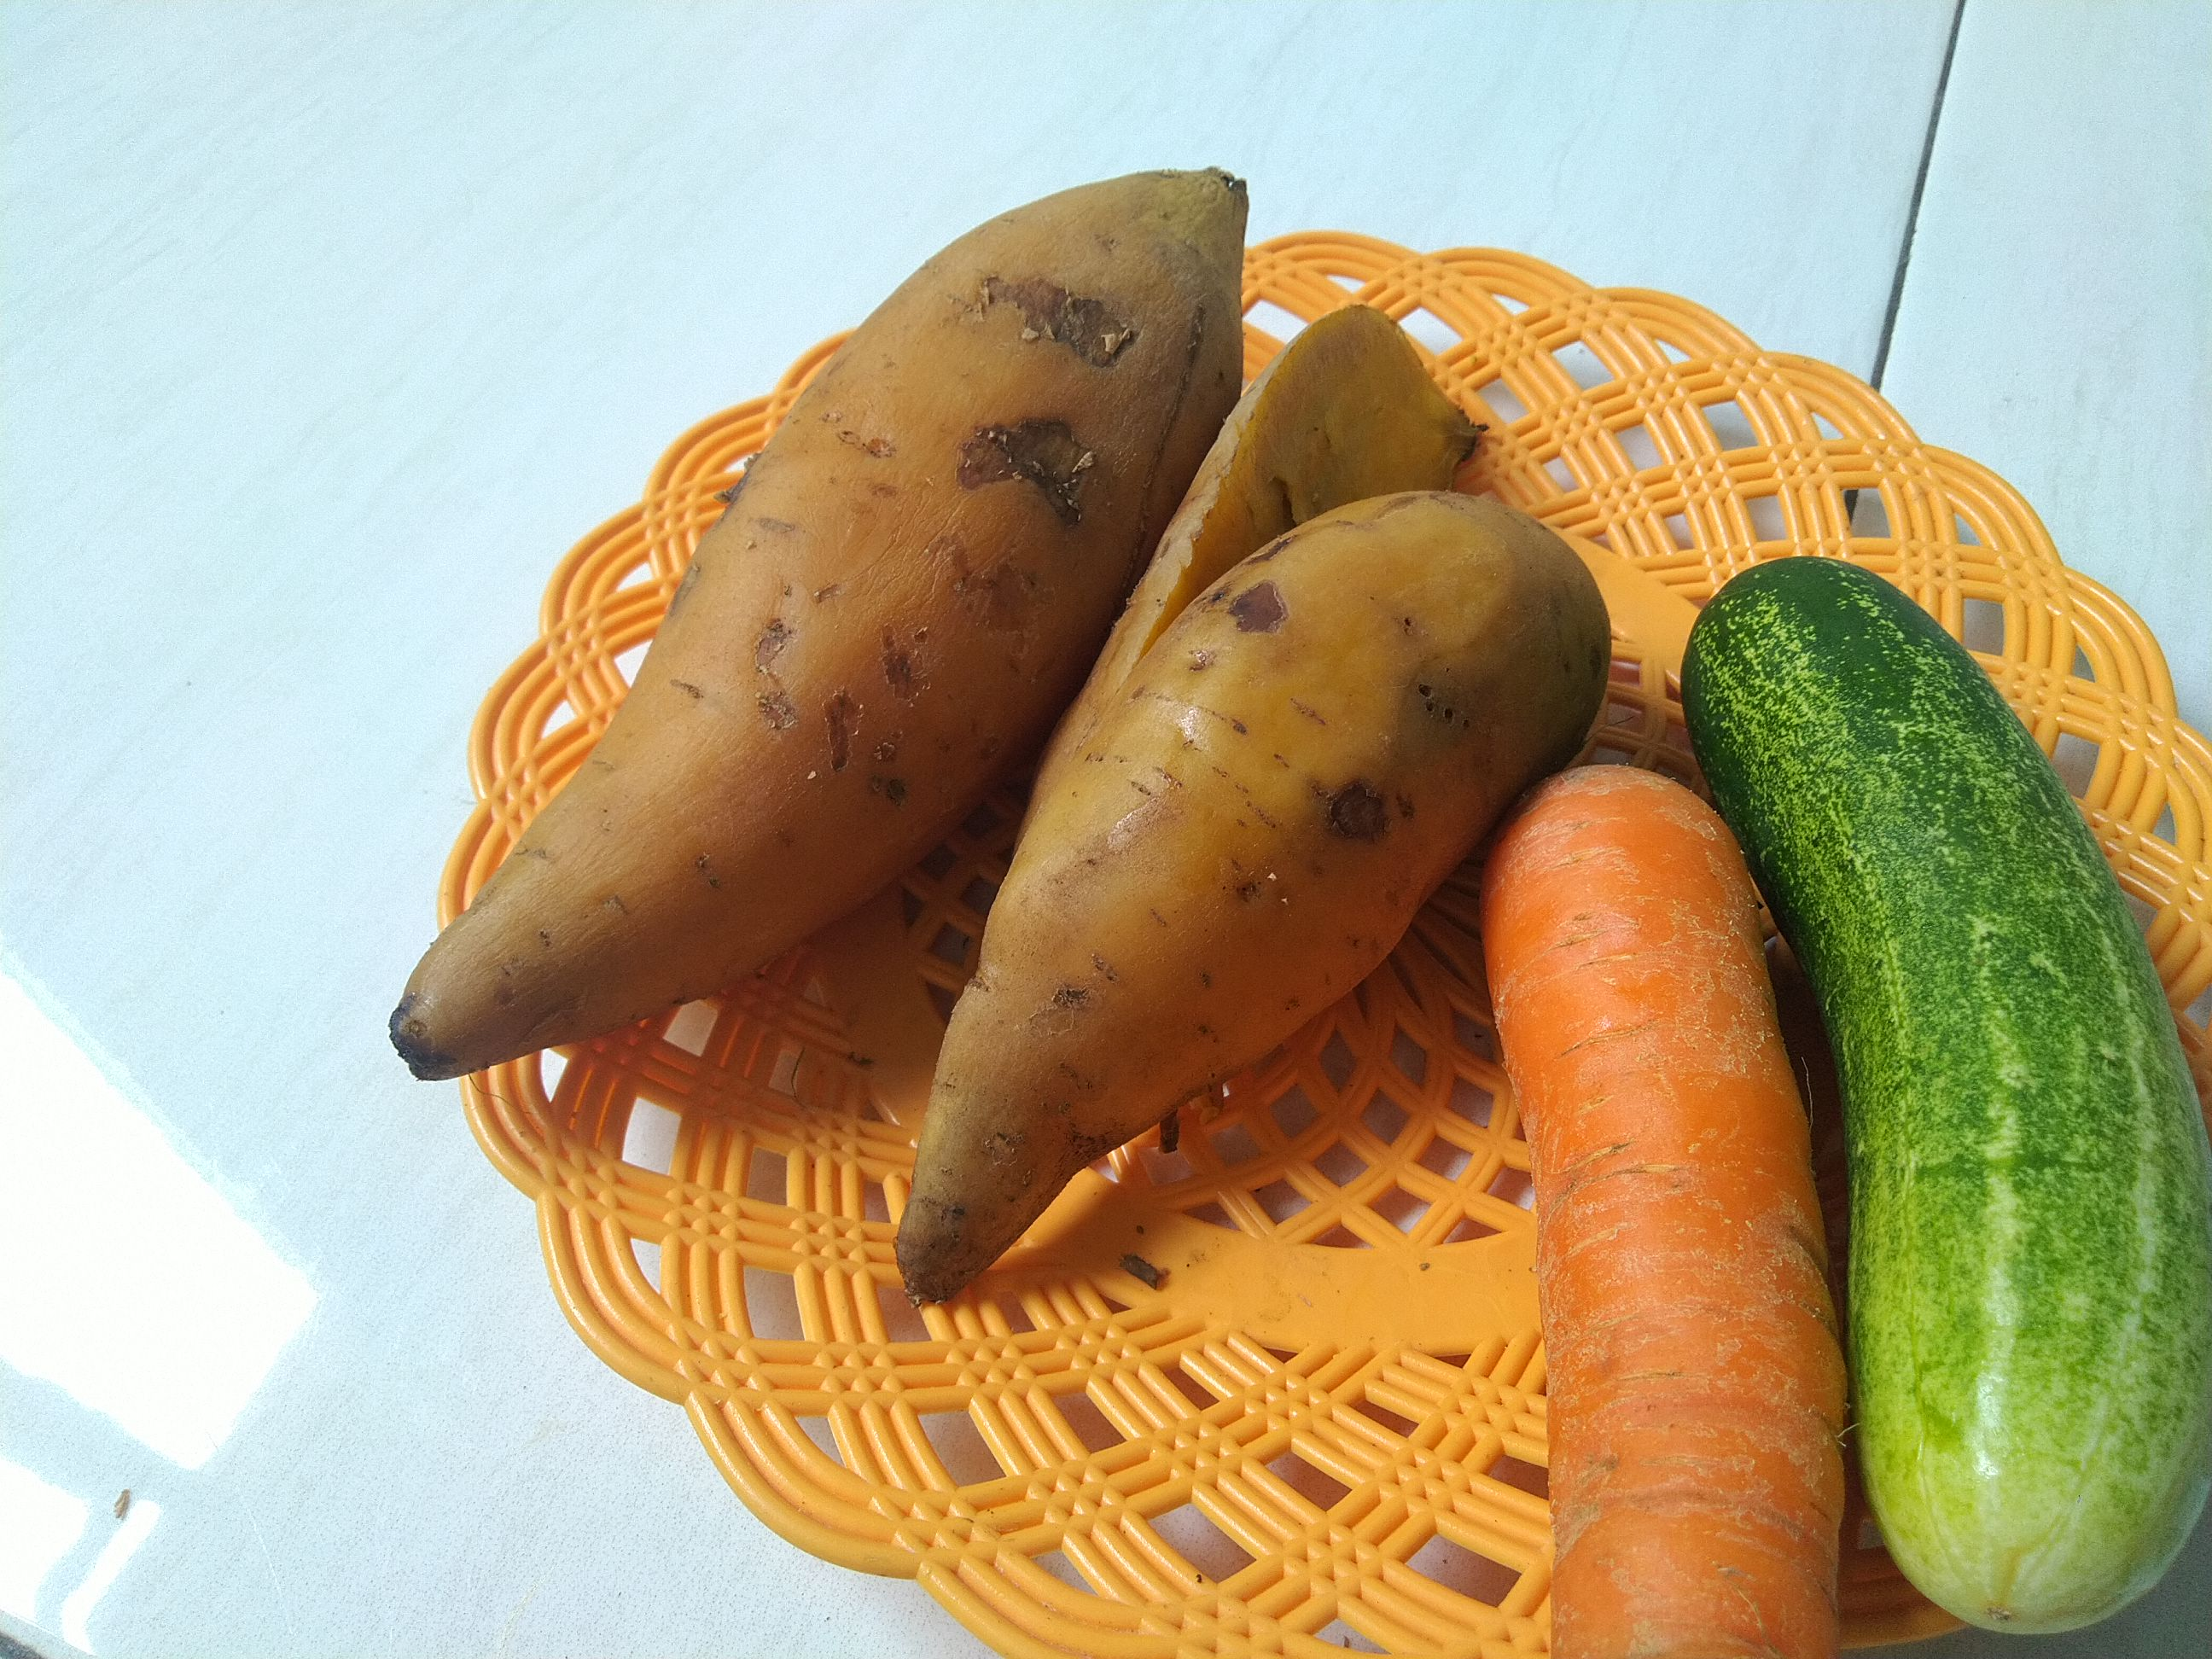ubi cilembu: (383, 166, 1258, 1103), (885, 523, 1611, 1312), (993, 296, 1566, 877)
